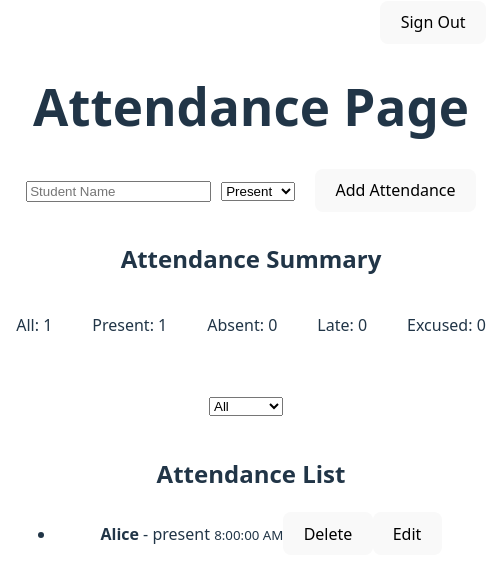
Test case: AttendancePage › updates an attendance entry successfully
Expected: the text "Alice" is shown, [100,523,139,545]
Click the button "Edit".
click(407, 534)  # box [372,512,442,555]
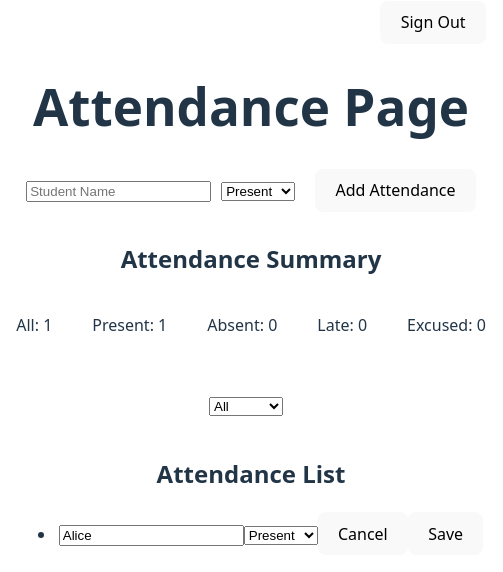
Type "Alice Smith" into the field with placeholder "Student Name".
click(119, 192); type("Alice Smith")  # box [26,181,211,202]
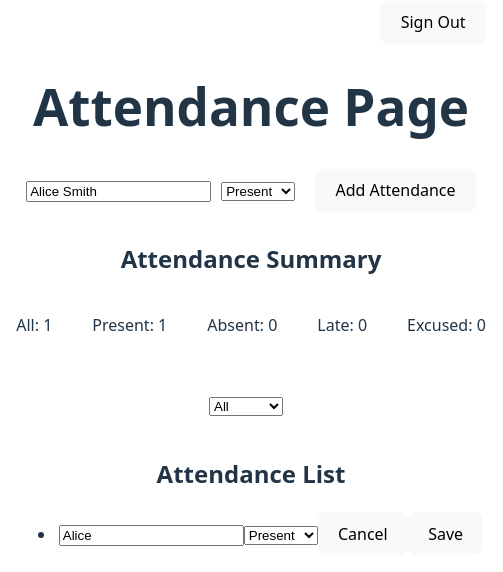
Click the button "Save".
click(446, 534)  # box [408,512,483,555]
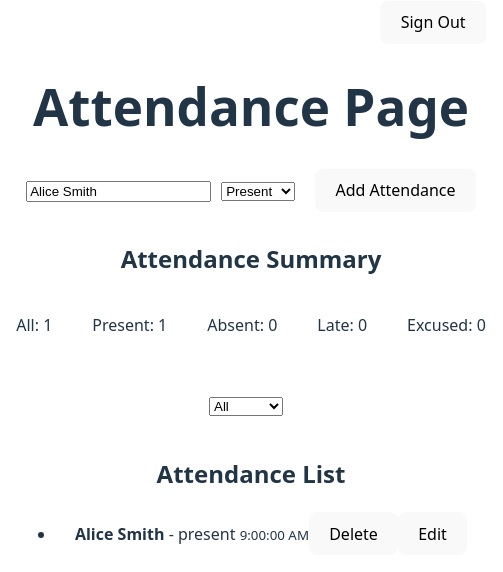
Expected: the text "Alice Smith" is shown, [75,523,164,545]
